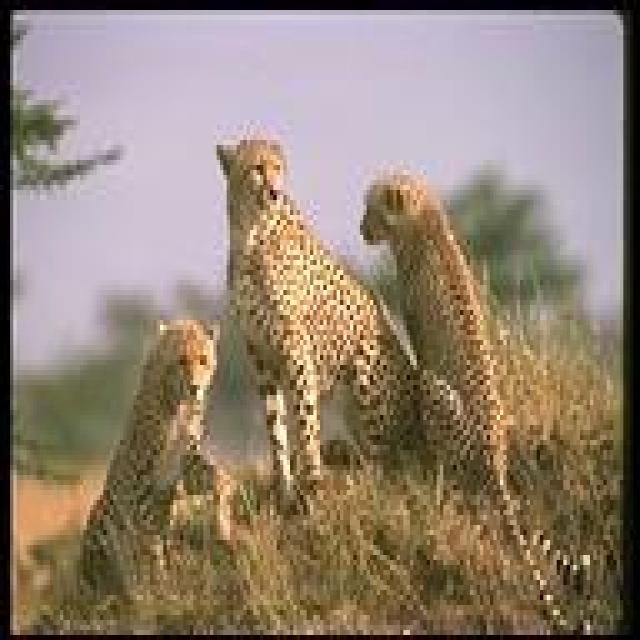Leopard: (217, 132, 415, 466)
